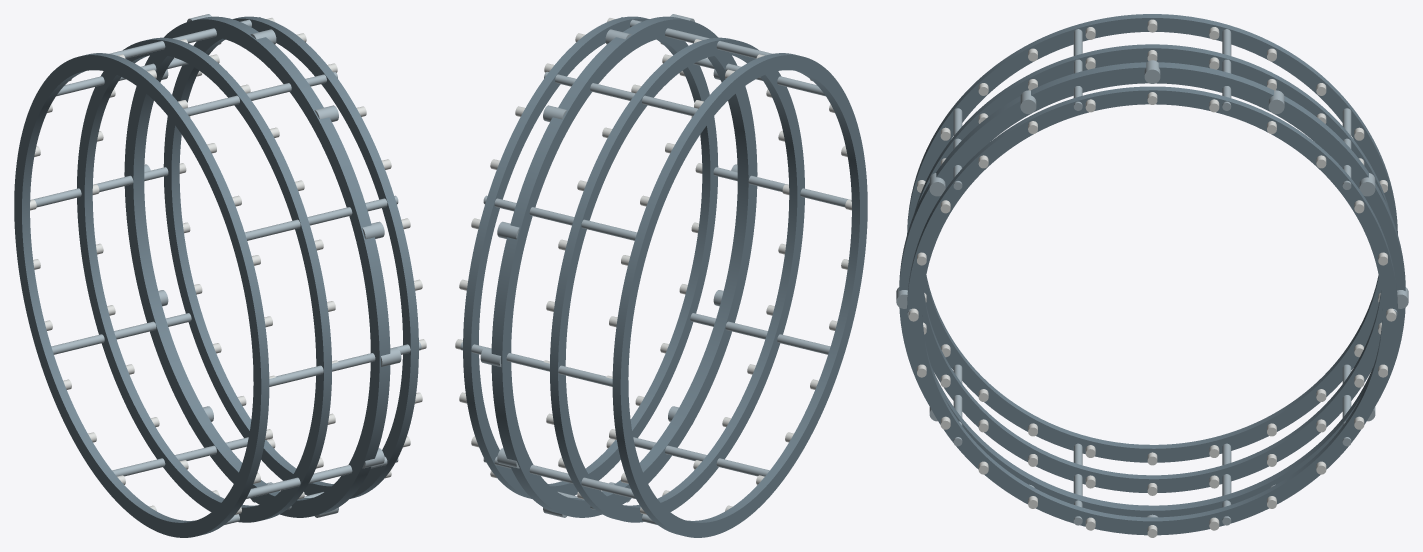
Rendered from compressor-case-detail.glb.
3 views of the same model, side by side, from view 1: azimuth 30°, elevation 25°; view 2: azimuth 150°, elevation 25°; view 3: azimuth 270°, elevation 25° (orthographic).
Visible parts, largest first — view 1: compressor-case-detail - shell, compressor-case-detail - steel, compressor-case-detail - fastener; view 2: compressor-case-detail - shell, compressor-case-detail - steel, compressor-case-detail - fastener; view 3: compressor-case-detail - shell, compressor-case-detail - fastener, compressor-case-detail - steel.
Part boxes in pixels (x1,y1,x2,y2): compressor-case-detail - shell: (14,16,418,537); compressor-case-detail - steel: (31,14,421,524); compressor-case-detail - fastener: (30,18,426,514); compressor-case-detail - shell: (463,16,867,537); compressor-case-detail - steel: (460,14,850,524); compressor-case-detail - fastener: (455,18,851,514); compressor-case-detail - shell: (899,14,1405,535); compressor-case-detail - fastener: (908,19,1396,537); compressor-case-detail - steel: (896,29,1408,525).
Bounding box in the file's own units: 0.695 × 1.87 × 1.87.
